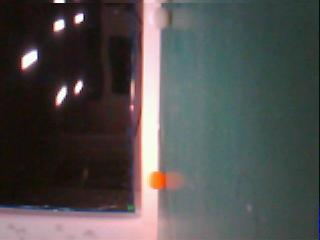oball: (148, 171, 166, 190)
